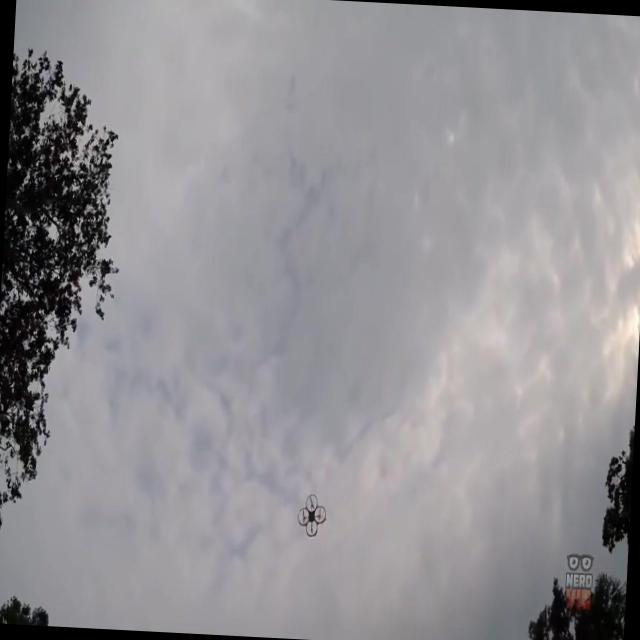drone: (295, 490, 329, 540)
